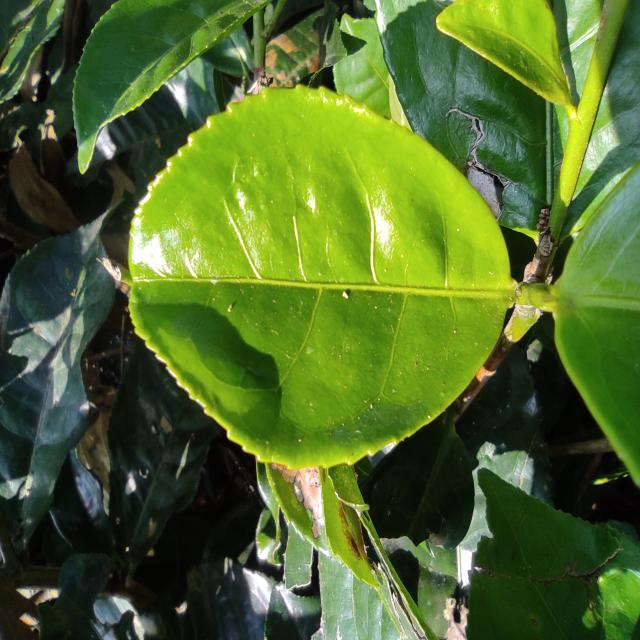Category B(2-4 days): (126, 80, 518, 477)
